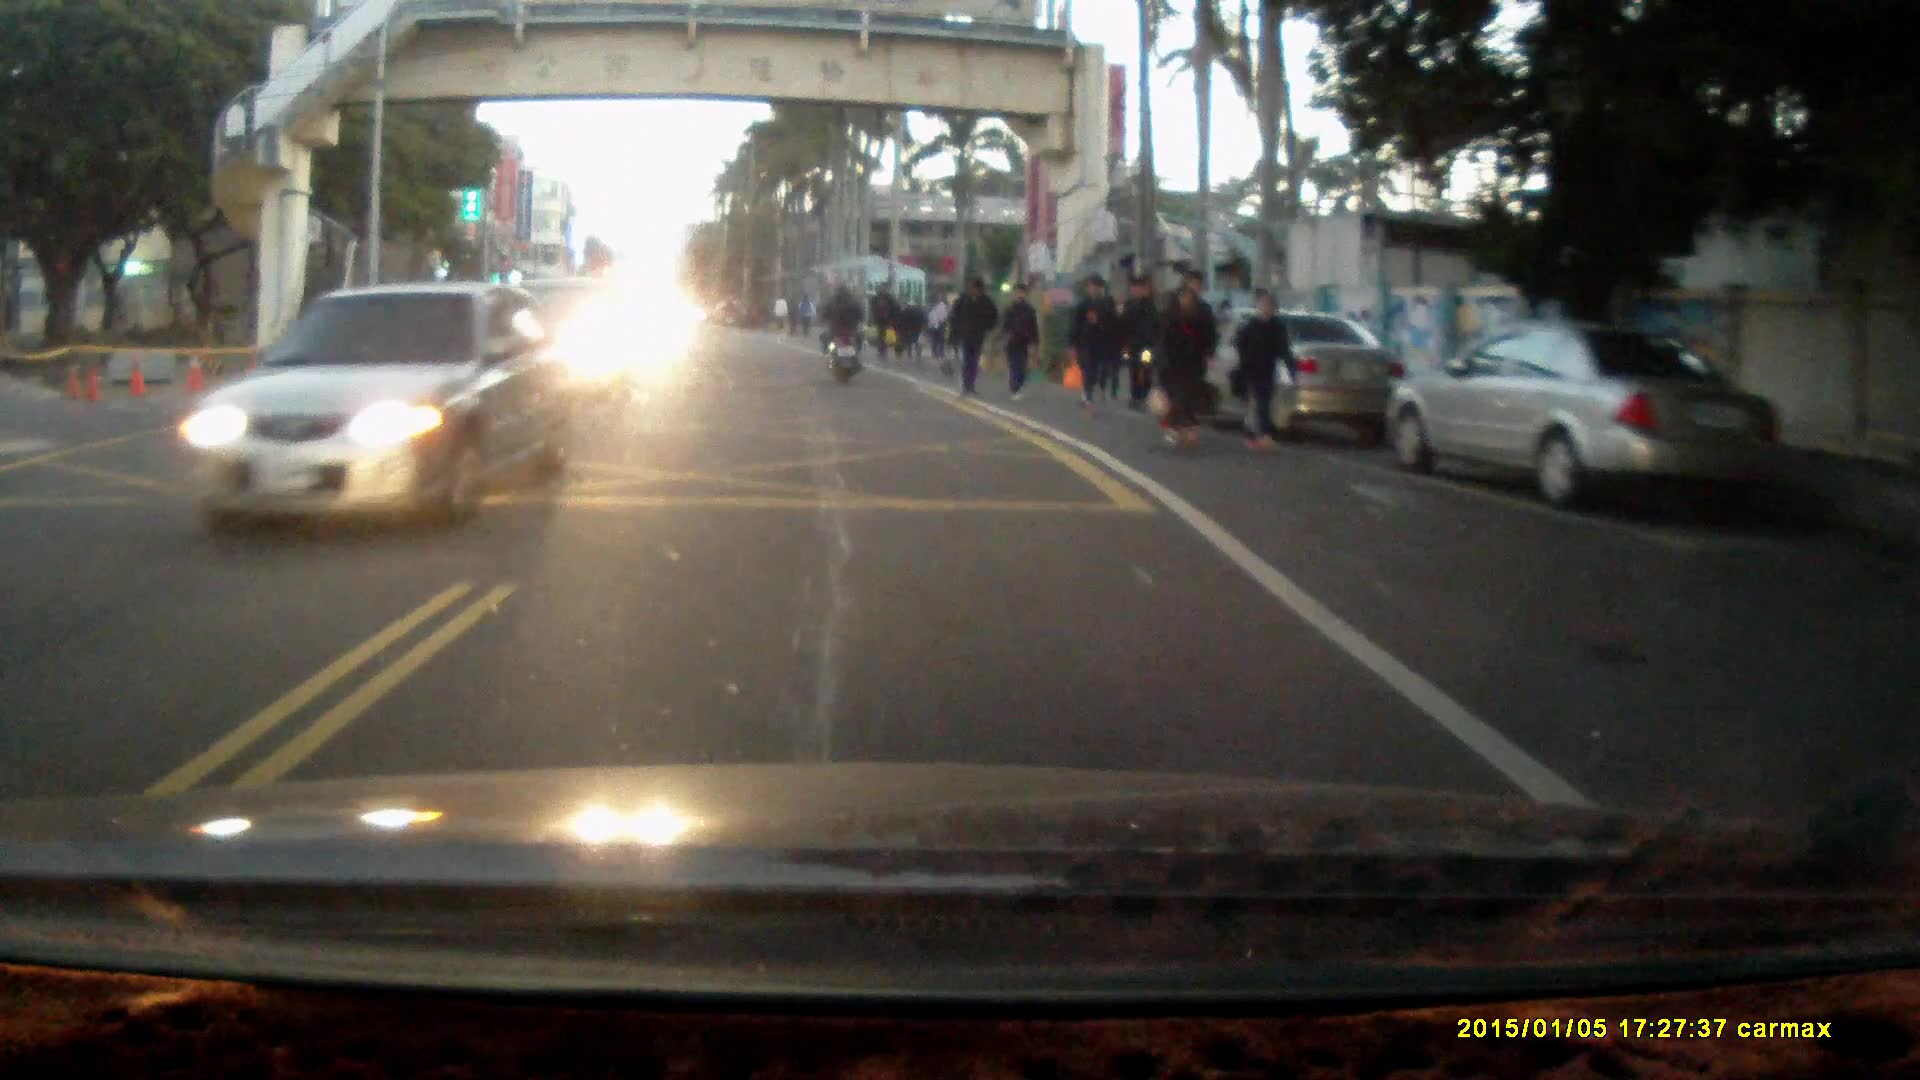pedestrian: (1230, 289, 1298, 453), (1157, 283, 1214, 443), (1066, 272, 1114, 418), (947, 273, 999, 397), (997, 279, 1043, 402), (1123, 274, 1164, 410), (867, 281, 896, 361), (923, 287, 951, 364), (891, 289, 920, 361)
rider: (818, 281, 867, 385)
vehicle: (174, 283, 579, 536), (1385, 316, 1787, 510), (1158, 313, 1413, 436)
